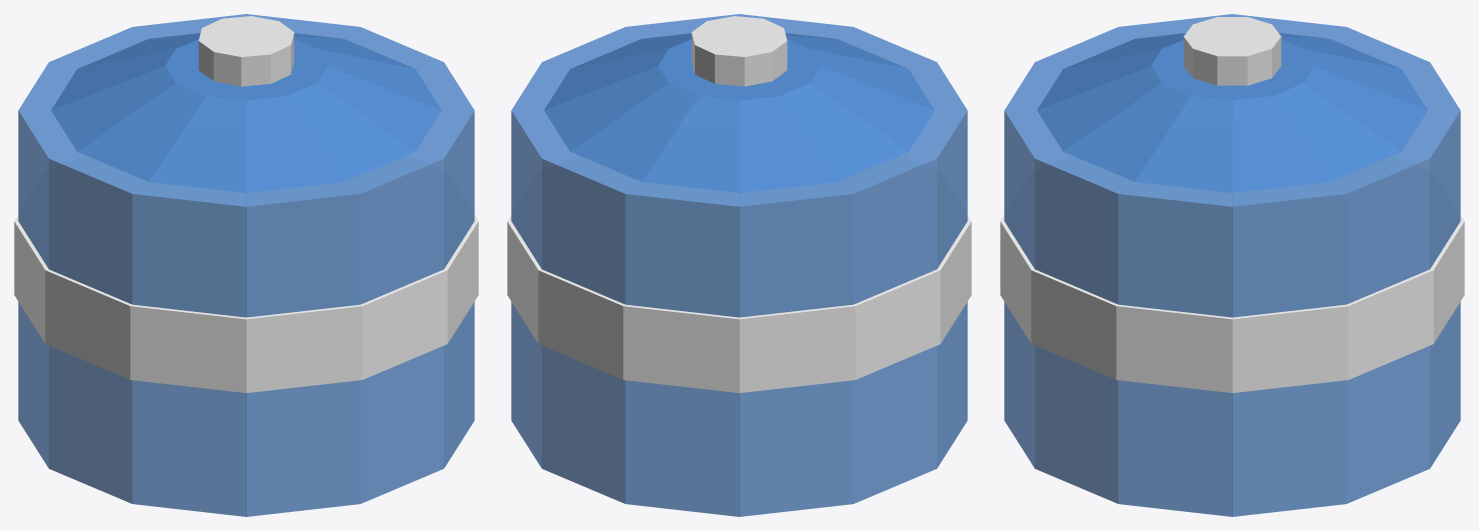
The model's file is chase_jug.glb.
The picture shows the model from 3 angles, left to right: view 1: azimuth 30°, elevation 25°; view 2: azimuth 150°, elevation 25°; view 3: azimuth 270°, elevation 25°; orthographic projection.
Visible parts, largest first — view 1: jug_jug_blue, label_drop_white, neck_jug_blue, cap_jug_cap; view 2: jug_jug_blue, label_drop_white, neck_jug_blue, cap_jug_cap; view 3: jug_jug_blue, label_drop_white, neck_jug_blue, cap_jug_cap.
Boxes of the visible parts, x1,y1,x2,y2 form: jug_jug_blue: (18, 14, 474, 516); label_drop_white: (14, 156, 478, 392); neck_jug_blue: (51, 33, 441, 192); cap_jug_cap: (198, 16, 294, 86); jug_jug_blue: (511, 14, 967, 516); label_drop_white: (507, 156, 971, 392); neck_jug_blue: (544, 33, 934, 192); cap_jug_cap: (691, 16, 787, 86); jug_jug_blue: (1004, 14, 1460, 516); label_drop_white: (1000, 156, 1464, 392); neck_jug_blue: (1037, 33, 1427, 192); cap_jug_cap: (1183, 17, 1281, 85).
Bounding box in the file's own units: 0.57 × 0.52 × 0.57.
